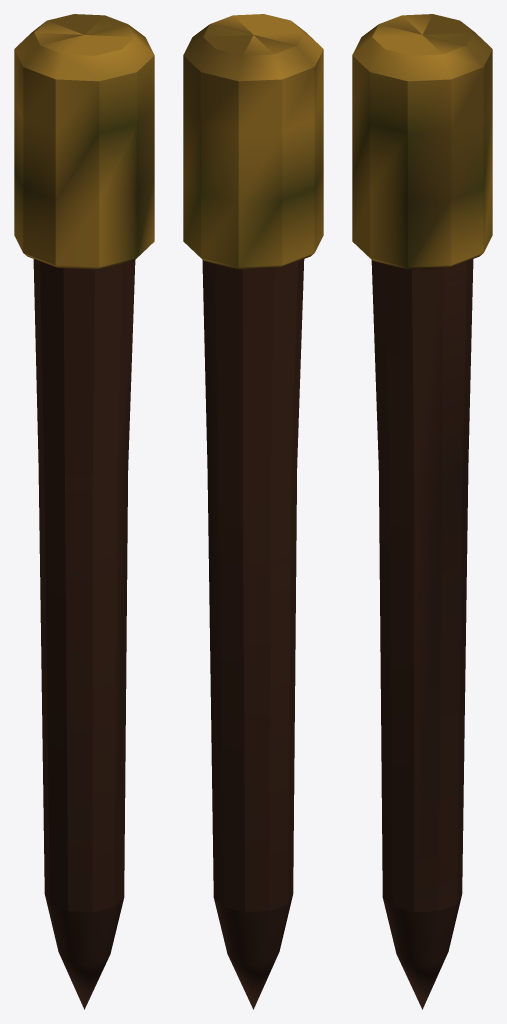
File: torch.fbx
3 renders of one model, left to right at view 1: azimuth 30°, elevation 25°; view 2: azimuth 150°, elevation 25°; view 3: azimuth 330°, elevation 25°, orthographic.
Visible parts, largest first — view 1: torch; view 2: torch; view 3: torch.
Boxes of the visible parts, x1,y1,x2,y2 form: torch: [14, 14, 154, 1009]; torch: [183, 14, 323, 1009]; torch: [352, 14, 492, 1009].
Size of the model in its own units: 0.4442 by 3.38 by 0.4224.
